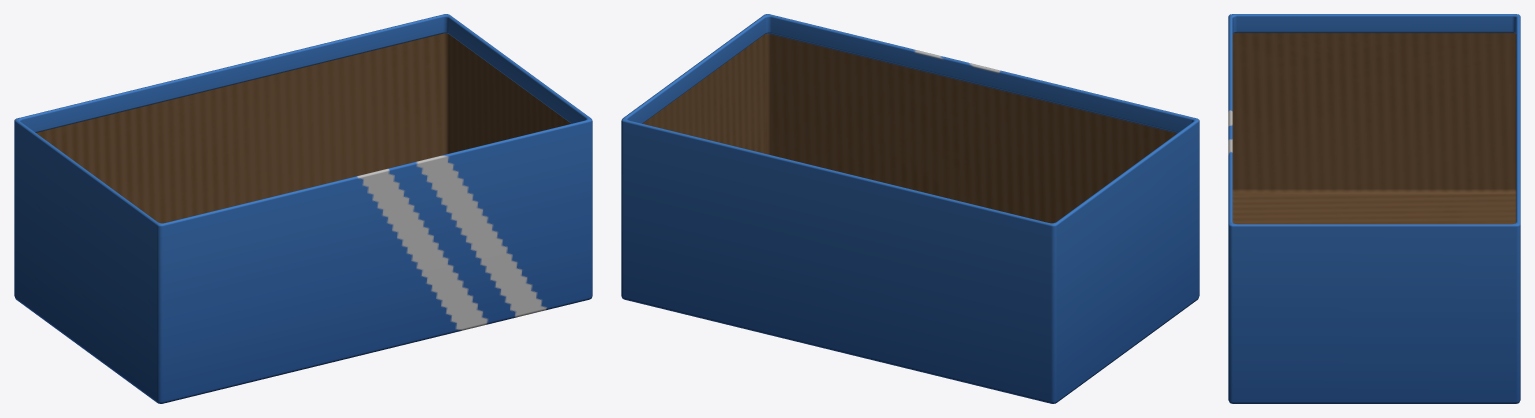
File: L_prp_XieHe_mod.fbx
3 views of the same model, side by side, from view 1: azimuth 30°, elevation 25°; view 2: azimuth 150°, elevation 25°; view 3: azimuth 270°, elevation 25° (orthographic).
Parts seen in each view (by area): view 1: pCube1; view 2: pCube1; view 3: pCube1.
Part boxes in pixels (left/top/right/bottom): pCube1: left=14, top=14, right=592, bottom=403; pCube1: left=621, top=14, right=1199, bottom=403; pCube1: left=1228, top=14, right=1520, bottom=403.
Bounding box in the file's own units: 33.95 × 13.46 × 19.77.
Materials: 1 (1 with a texture image).
